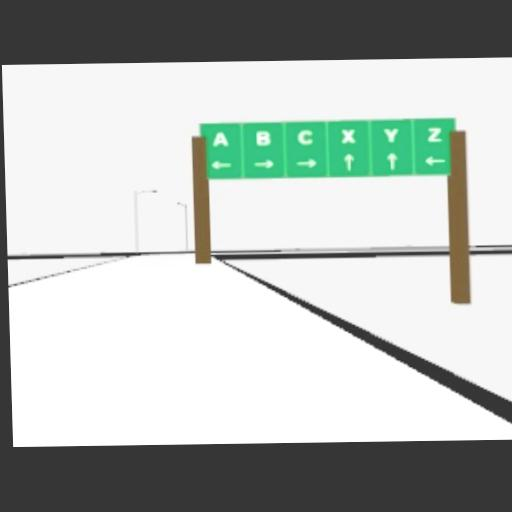A: (211, 130, 229, 146)
B: (255, 129, 271, 145)
C: (297, 128, 313, 145)
Left: (424, 155, 446, 166), (210, 160, 232, 169)
Right: (294, 157, 318, 168), (252, 160, 274, 169)
Straight: (386, 152, 398, 170), (343, 153, 355, 171)
X: (341, 128, 355, 142)
Y: (383, 126, 399, 142)
Z: (426, 127, 442, 141)
